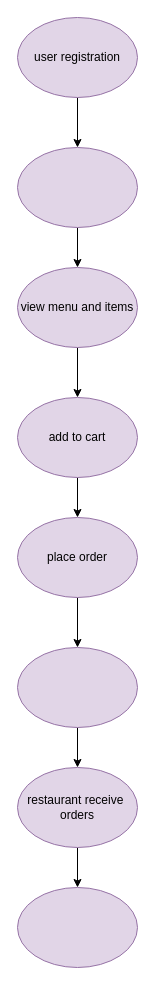
This 155x985 diagram has some shape labels left out. Here are the shapes that lost their labels. From the top down, the centre of each, then its label:
the point at 77,187: browser restaurant
the point at 77,687: payment process and cofirmation
the point at 77,927: order preparation
